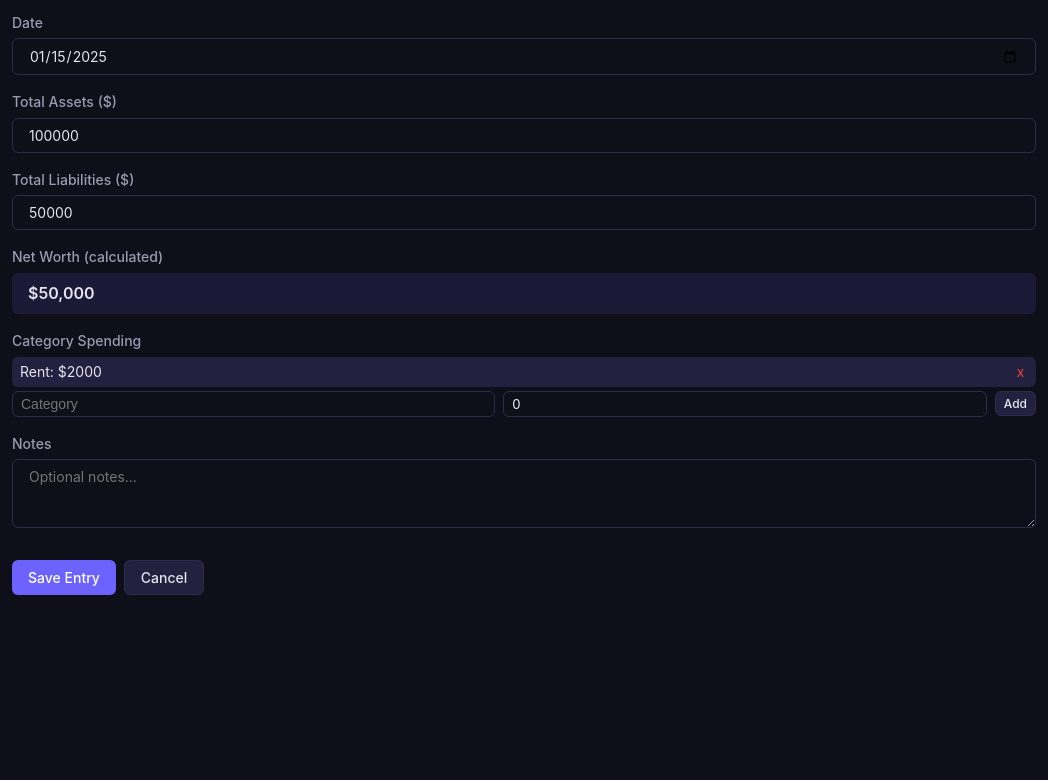
Test: FinanceForm › supports removing spending categories
Click the button with class "remove-btn". click: x=1020, y=372
box: [1013,364,1028,380]
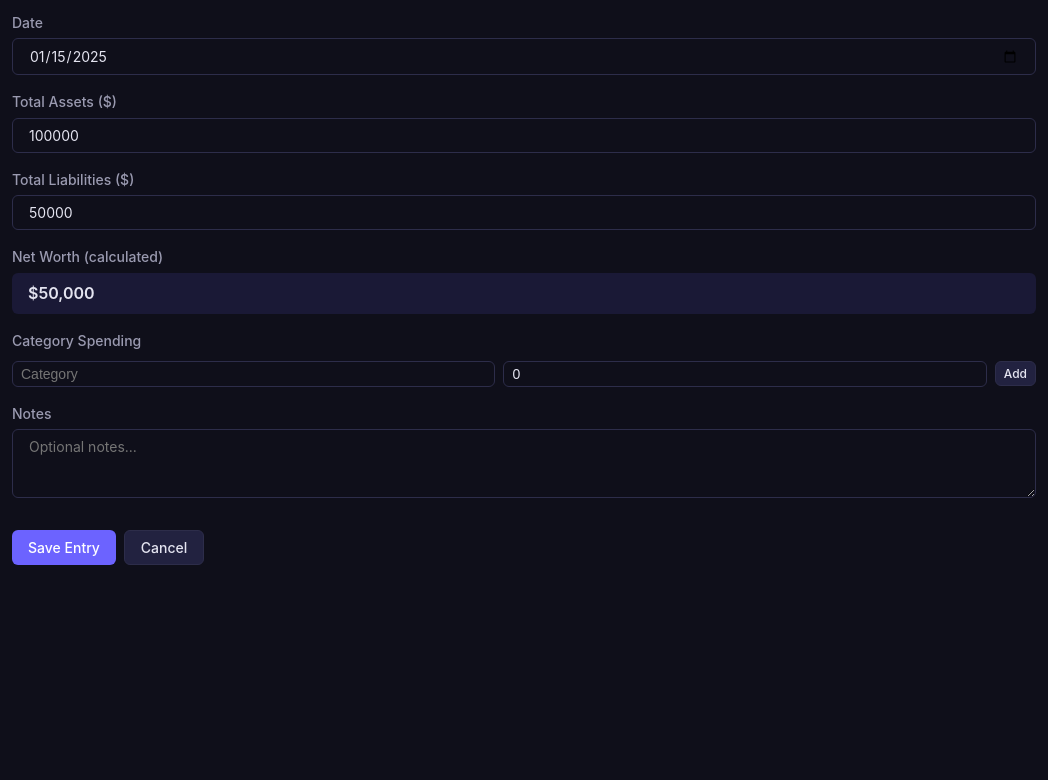
Now the text "Rent" is gone
